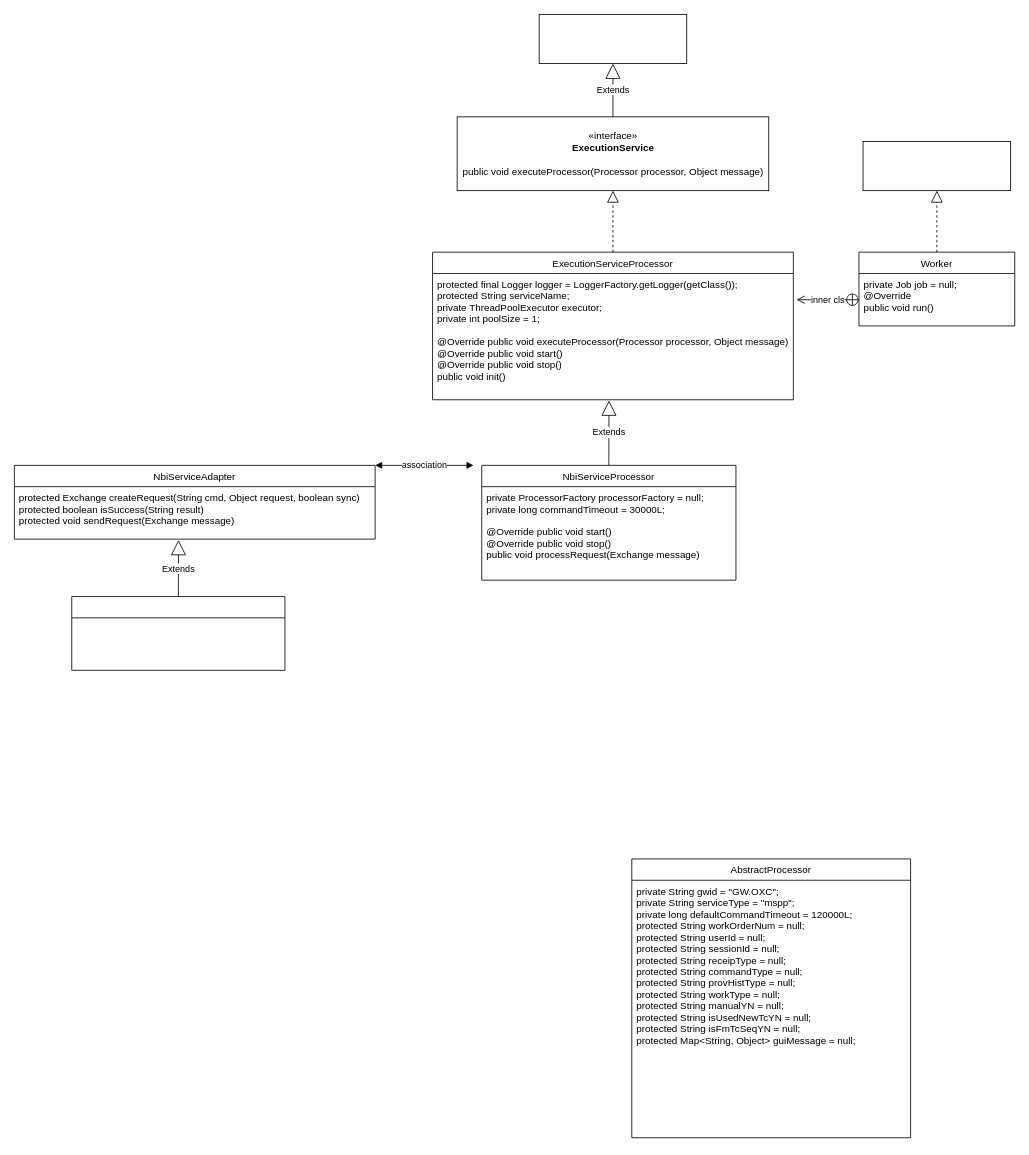
This 1029x1155 diagram has some shape labels left out. The centre of each missing label's shape, as x and y in pixels:
"xxxxCommandRpcImpl" belongs at point 178,633.
"«interface» Runnable" belongs at point 936,166.
"«interface» Service public void start(); public void stop();" belongs at point 612,39.
